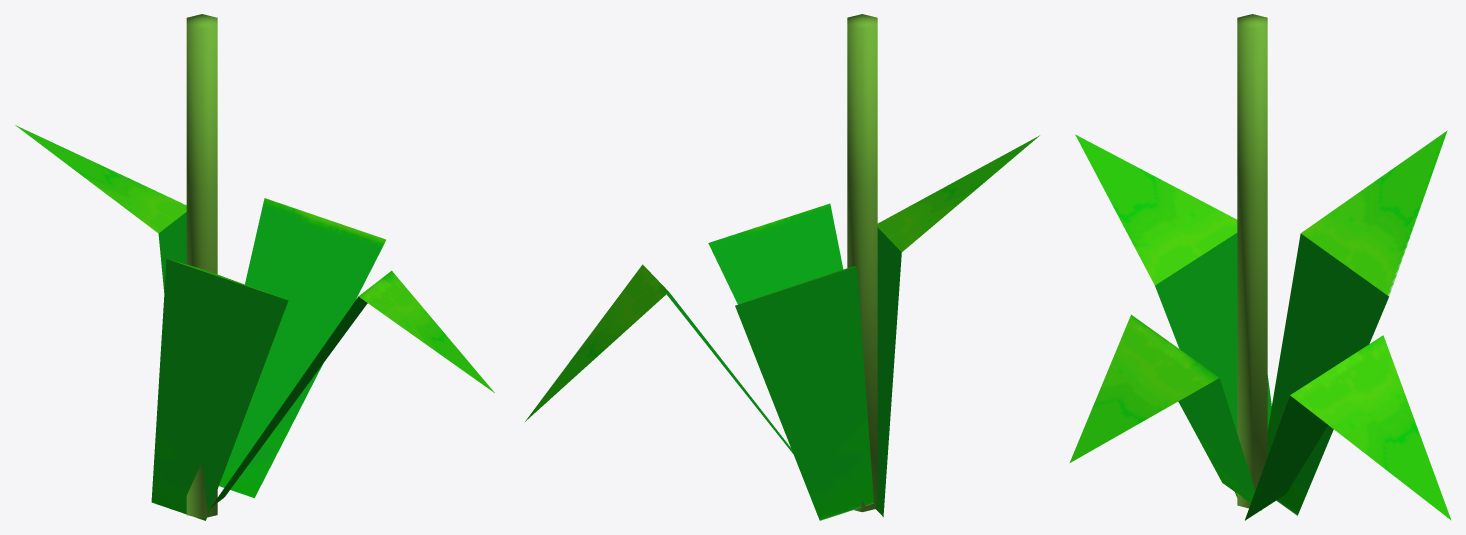
File: GreenHillPFlowerBase.obj
The picture shows the model from 3 angles, left to right: view 1: azimuth 30°, elevation 25°; view 2: azimuth 150°, elevation 25°; view 3: azimuth 270°, elevation 25°; orthographic projection.
Size of the model in its own units: 9.95 by 14.17 by 10.12.
Materials: 1 (1 with a texture image).
